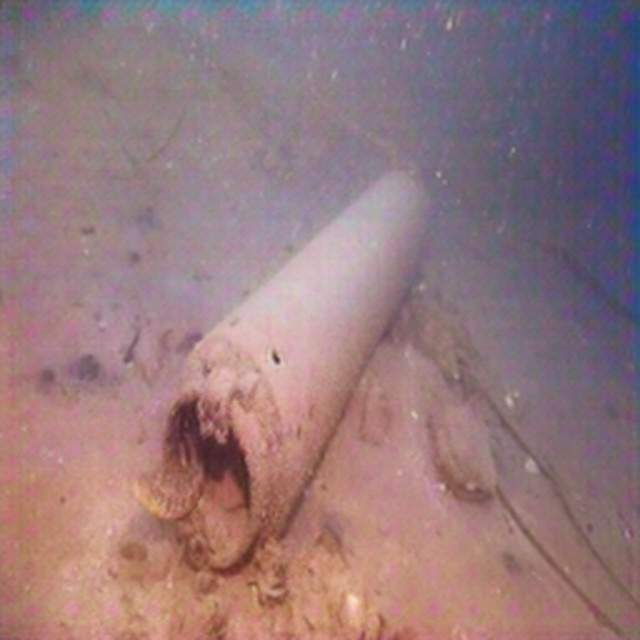mine: (160, 167, 431, 569)
